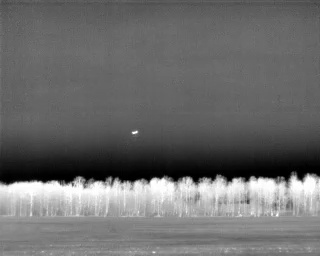DRONE: (128, 126, 142, 139)
